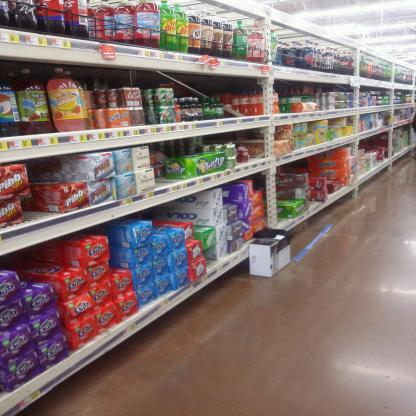Void: (11, 249, 66, 272), (83, 68, 143, 86), (31, 160, 74, 182), (180, 76, 222, 92), (227, 75, 258, 96), (148, 209, 197, 222), (147, 69, 171, 87), (250, 172, 267, 187)
